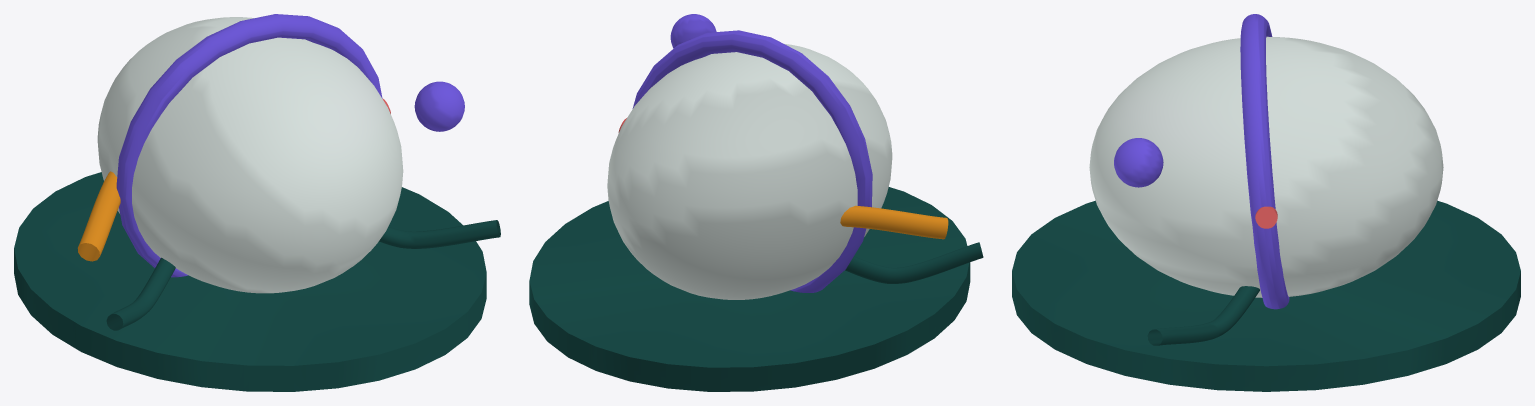
File: 0412_微生物图鉴_大肠杆菌.glb
3 renders of one model, left to right at view 1: azimuth 30°, elevation 25°; view 2: azimuth 150°, elevation 25°; view 3: azimuth 270°, elevation 25°, orthographic. The views are drawn at different scales.
Parts seen in each view (by area): view 1: card_0412; view 2: card_0412; view 3: card_0412.
Part boxes in pixels (left/top/right/bottom): card_0412: left=14, top=14, right=500, bottom=391; card_0412: left=529, top=14, right=983, bottom=391; card_0412: left=1012, top=14, right=1520, bottom=391.
Bounding box in the file's own units: 1.51 × 1 × 1.7.
